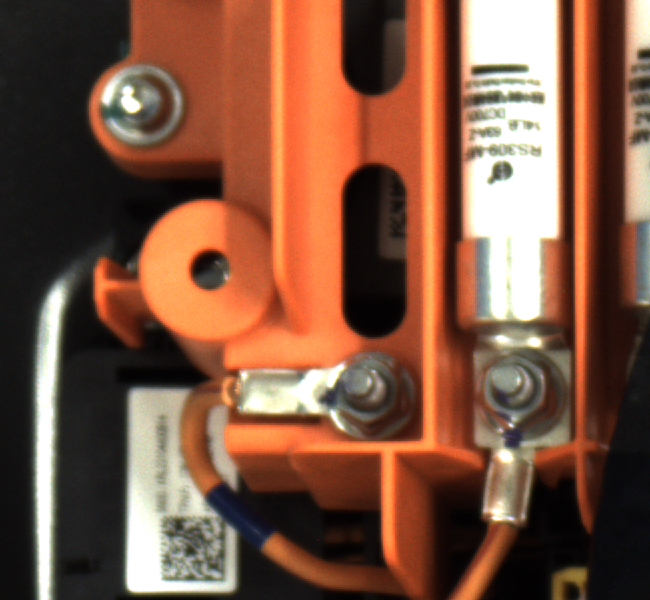screw_m: (76, 58, 209, 152)
screw_s: (472, 346, 566, 444), (315, 351, 413, 440)
